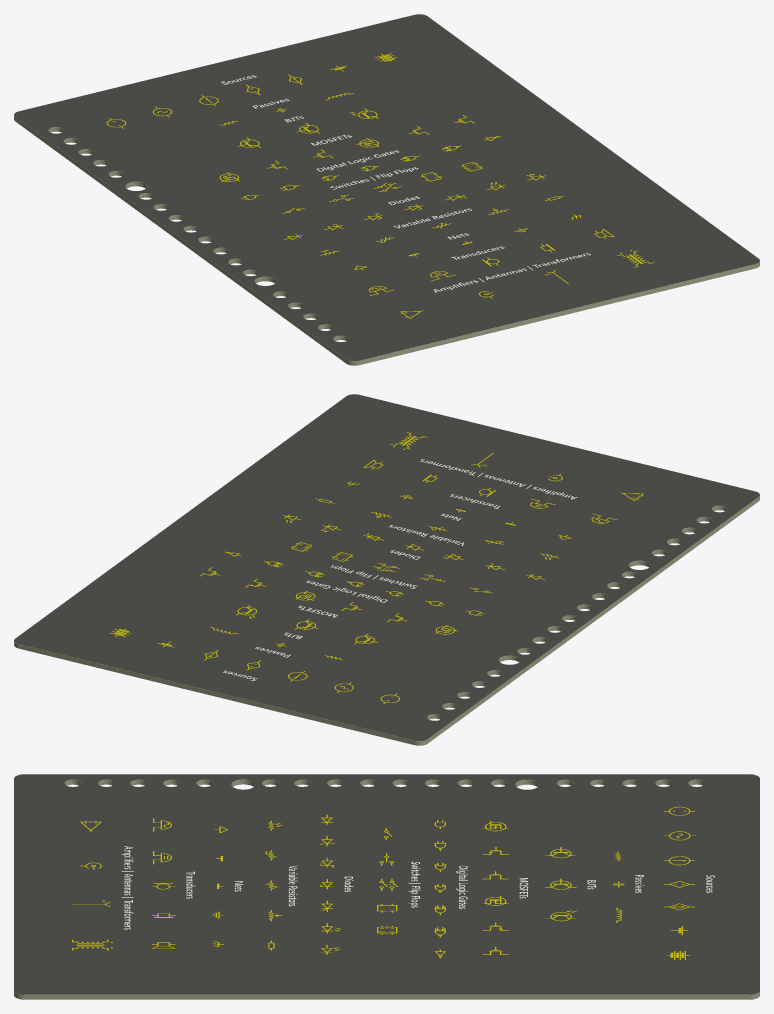
File: board.glb
3 renders of one model, top to bottom at view 1: azimuth 30°, elevation 25°; view 2: azimuth 150°, elevation 25°; view 3: azimuth 270°, elevation 25°, orthographic. The views are drawn at different scales.
Visible parts, largest first — view 1: =>[0:1:1:4], =>[0:1:1:5], =>[0:1:1:2], =>[0:1:1:3]; view 2: =>[0:1:1:4], =>[0:1:1:5], =>[0:1:1:2], =>[0:1:1:3]; view 3: =>[0:1:1:4], =>[0:1:1:5], =>[0:1:1:2], =>[0:1:1:3].
Boxes of the visible parts, <box> form: =>[0:1:1:4]: <box>14,14,759,365</box>; =>[0:1:1:5]: <box>14,15,759,365</box>; =>[0:1:1:2]: <box>106,53,654,318</box>; =>[0:1:1:3]: <box>221,75,590,292</box>; =>[0:1:1:4]: <box>14,394,759,745</box>; =>[0:1:1:5]: <box>14,395,759,745</box>; =>[0:1:1:2]: <box>109,432,643,704</box>; =>[0:1:1:3]: <box>223,459,577,680</box>; =>[0:1:1:4]: <box>14,774,759,999</box>; =>[0:1:1:5]: <box>14,775,759,999</box>; =>[0:1:1:2]: <box>71,806,695,959</box>; =>[0:1:1:3]: <box>121,846,714,929</box>.
Size of the model in its own units: 0.151 by 0.00163 by 0.216.
